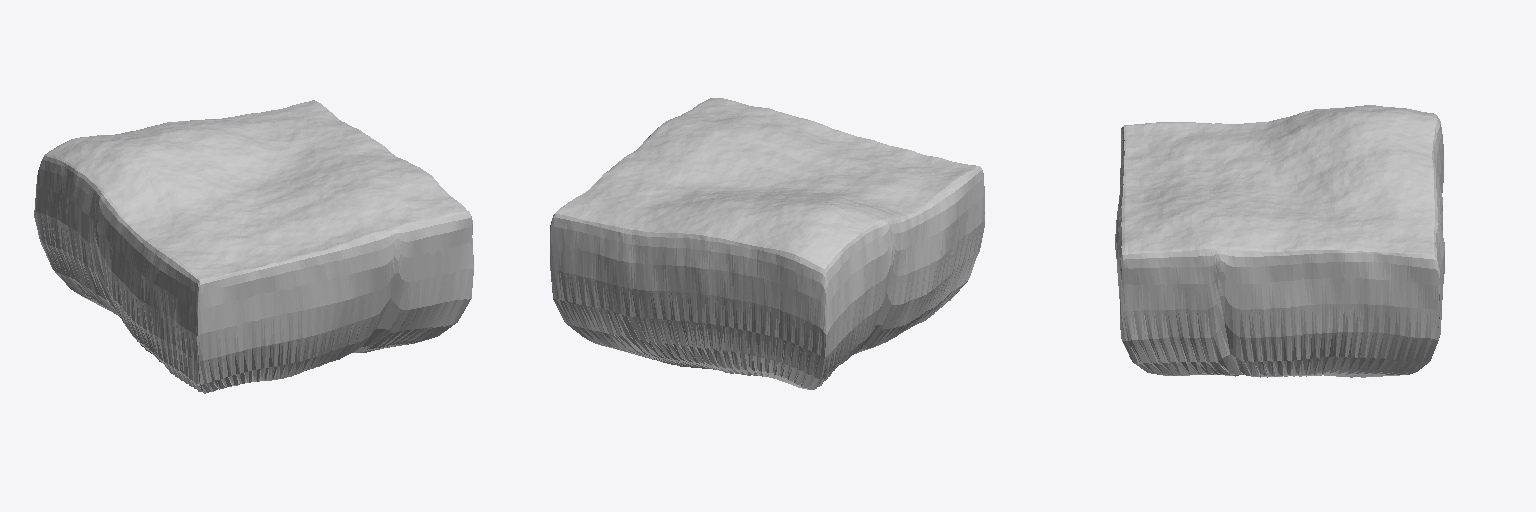
Rendered from terrain_scene_UNITY.obj.
3 views of the same model, side by side, from view 1: azimuth 30°, elevation 25°; view 2: azimuth 150°, elevation 25°; view 3: azimuth 270°, elevation 25° (orthographic).
Visible parts, largest first — view 1: Ground_Plane; view 2: Ground_Plane; view 3: Ground_Plane.
Part boxes in pixels (x1,y1,x2,y2): Ground_Plane: (34,100,473,393); Ground_Plane: (550,98,984,389); Ground_Plane: (1115,105,1444,377).
Size of the model in its own units: 20.39 by 13.02 by 20.14.